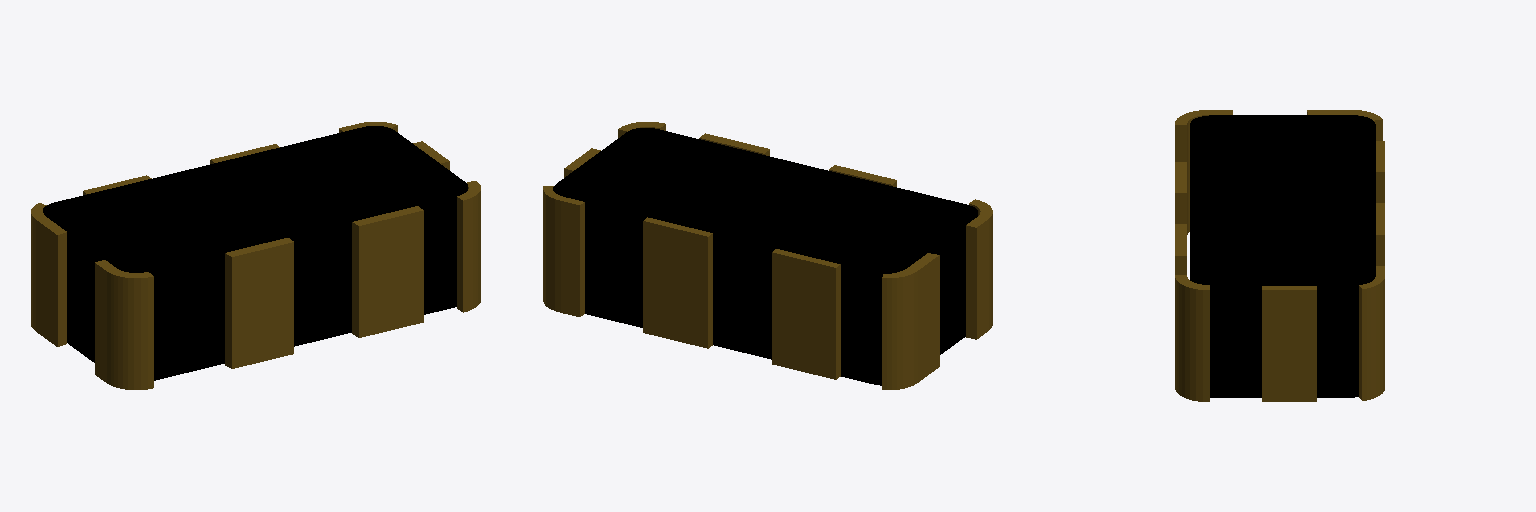
Rendered from TSU.obj.
3 renders of one model, left to right at view 1: azimuth 30°, elevation 25°; view 2: azimuth 150°, elevation 25°; view 3: azimuth 270°, elevation 25°, orthographic.
Parts seen in each view (by area): view 1: rect19.001, rect19.001_1; view 2: rect19.001, rect19.001_1; view 3: rect19.001, rect19.001_1.
Boxes of the visible parts, x1,y1,x2,y2 form: rect19.001: [43, 126, 467, 380]; rect19.001_1: [31, 122, 480, 389]; rect19.001: [553, 128, 977, 385]; rect19.001_1: [543, 122, 992, 389]; rect19.001: [1190, 115, 1375, 397]; rect19.001_1: [1175, 110, 1384, 401].
Bounding box in the file's own units: 0.0205 × 0.0059 × 0.0101.